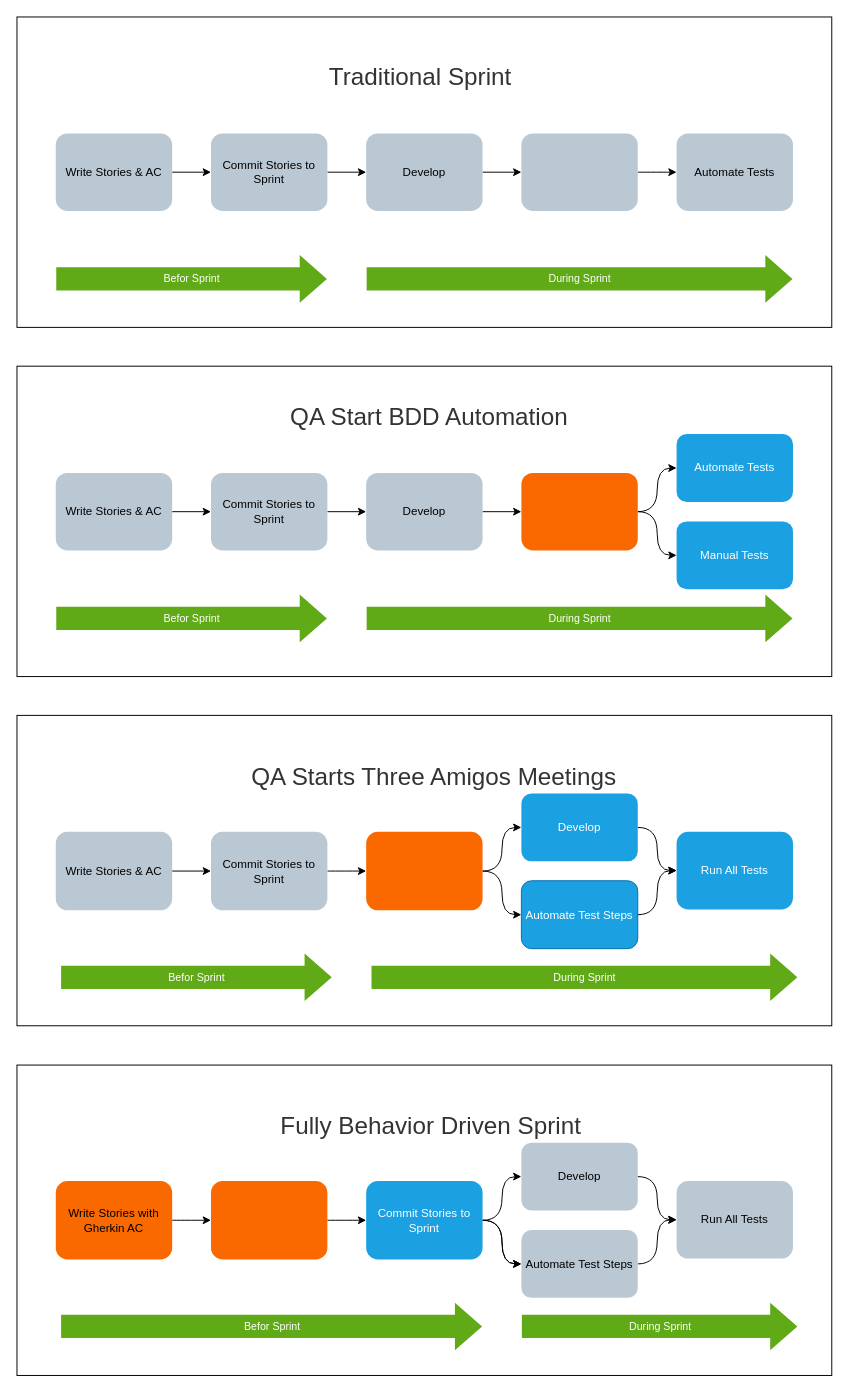
The diagram is 849 pixels wide and 1393 high, and some of its shapes have lost their labels. The shapes that lost their labels are listed below. From the top down, each one's box as (x1, y1, x2, y2) in pixels, then its label:
(521, 133, 637, 210): Test
(521, 472, 637, 550): Write Gherkin Test Scenarios
(366, 831, 482, 910): Three Amigos: Write Gherkin Scenarios
(210, 1180, 327, 1259): Three Amigos Grooming: Refine Gherkin
